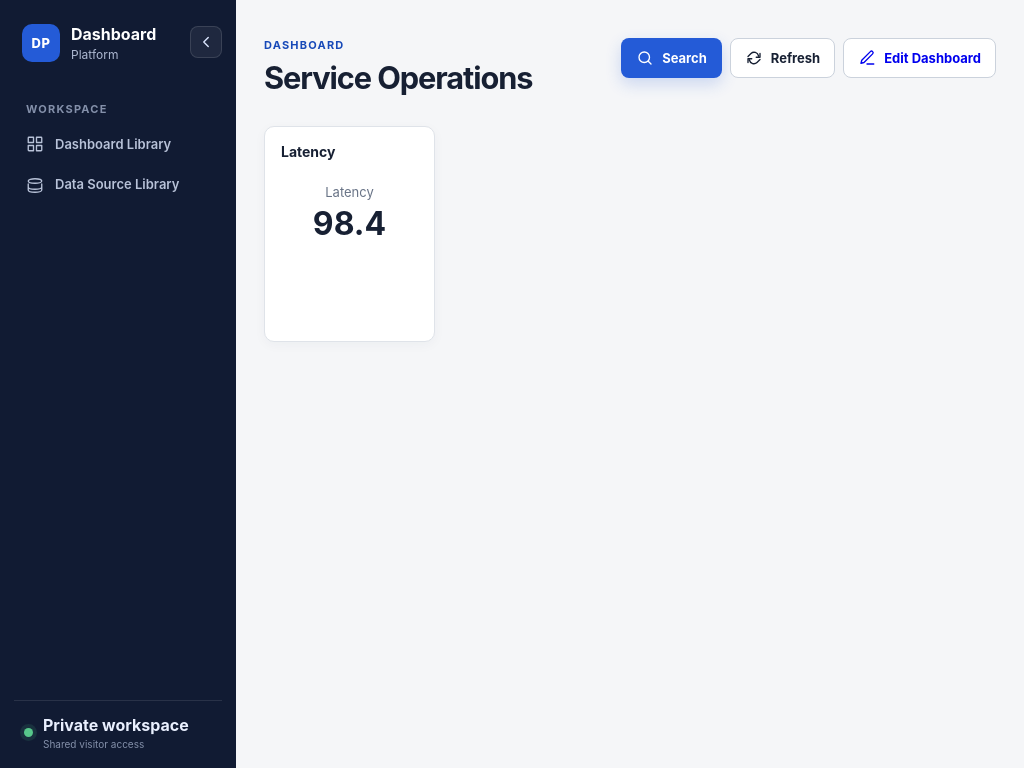
Test: DashboardViewer search and refresh › enables Refresh after Search and reruns the last searched request set
Expected: the heading "Latency" is shown, x1=281 y1=143 x2=336 y2=160
Expected: the button "Refresh" is disabled, x1=730 y1=38 x2=835 y2=78
Click the button "Search" at (672, 58), box x1=621 y1=38 x2=722 y2=78
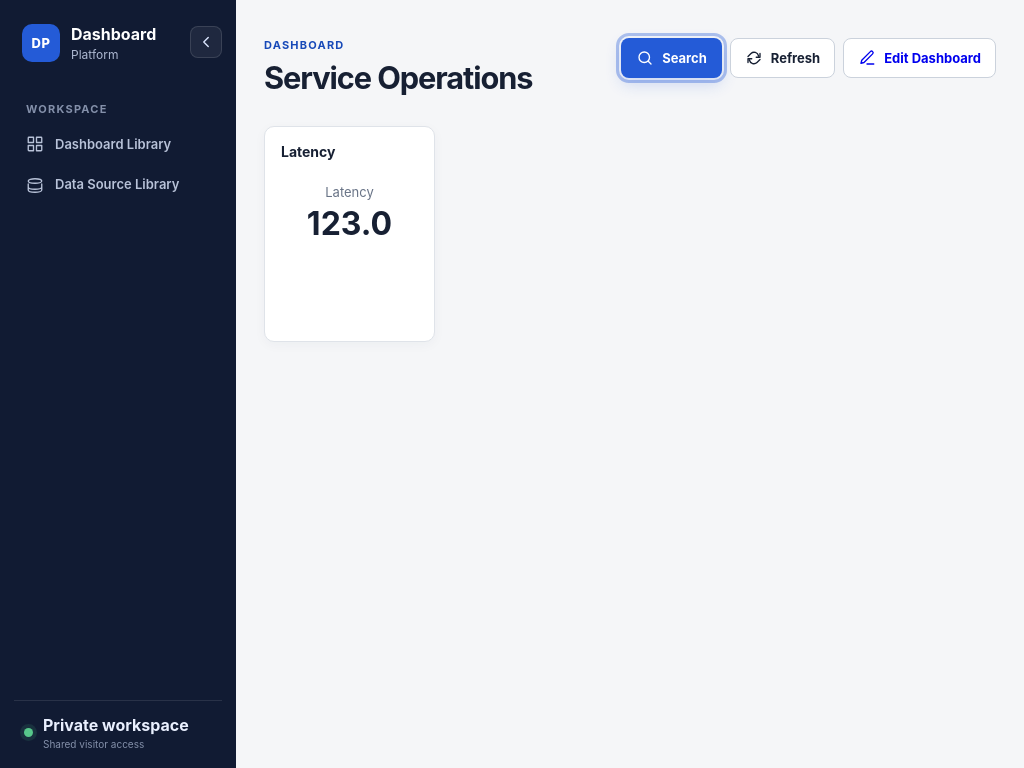
Now the text "123.0" is shown, box x1=307 y1=204 x2=392 y2=243
Click the button "Refresh" at (782, 58), box x1=730 y1=38 x2=835 y2=78
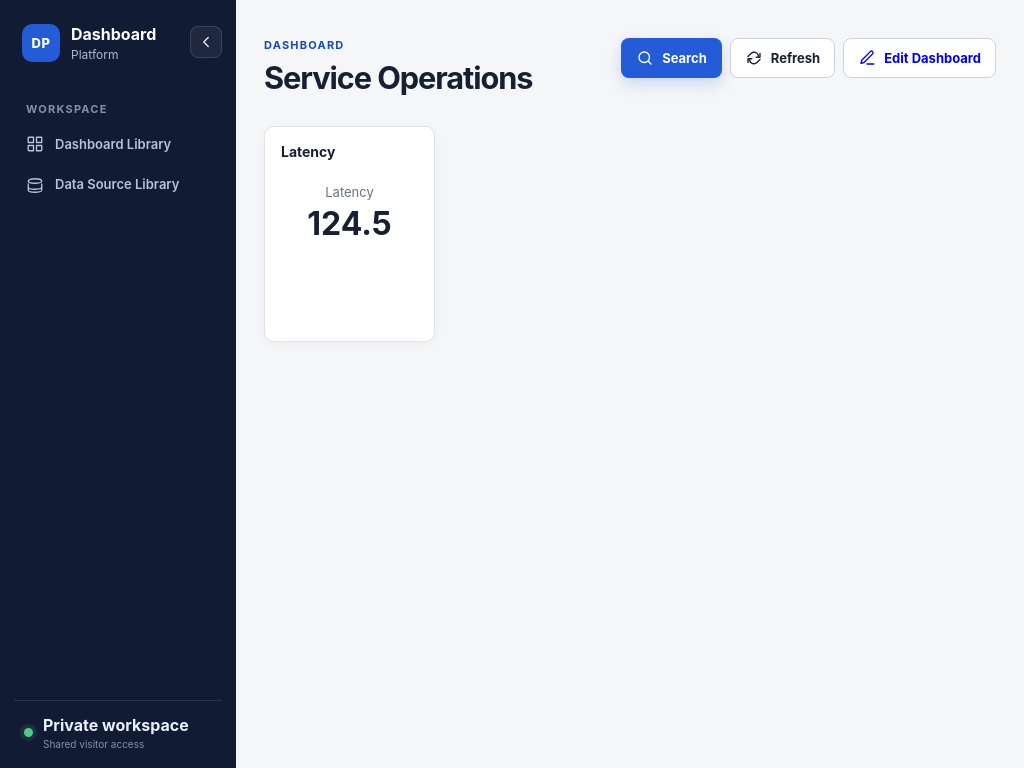
Now the text "124.5" is shown, box x1=307 y1=204 x2=392 y2=243
